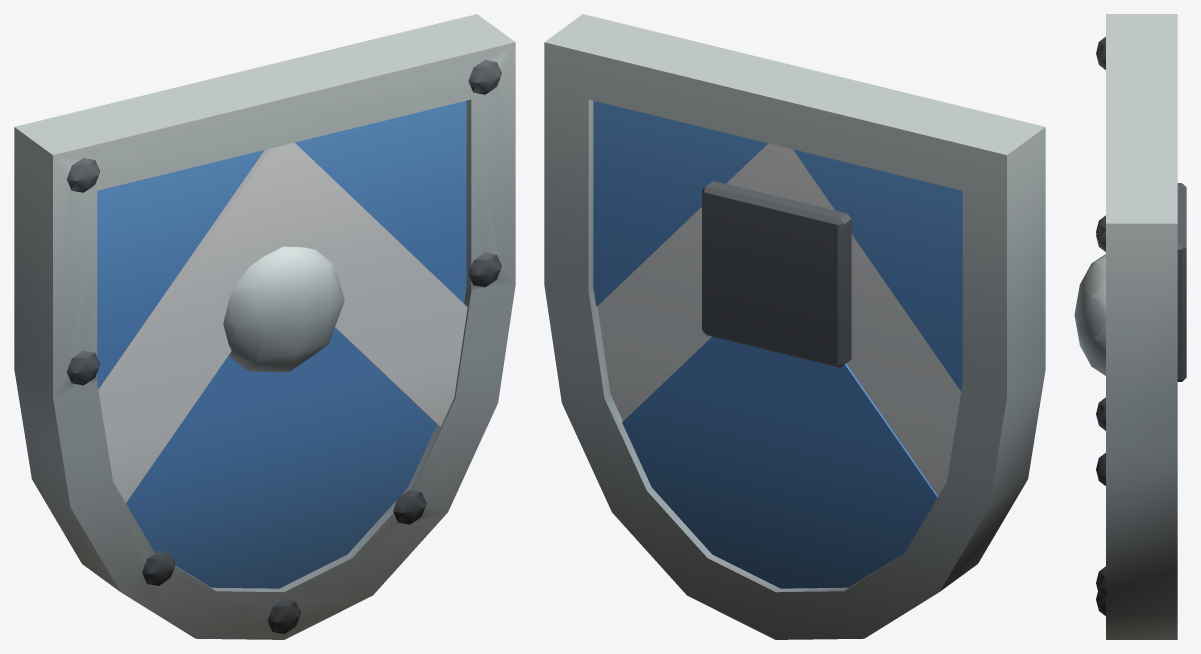
The model's file is shield_chevron.glb.
The picture shows the model from 3 angles, left to right: view 1: azimuth 30°, elevation 25°; view 2: azimuth 150°, elevation 25°; view 3: azimuth 270°, elevation 25°; orthographic projection. The views are drawn at different scales.
Visible parts, largest first — view 1: Item; view 2: Item; view 3: Item.
Part boxes in pixels (x1=…): Item: x1=14, y1=14, x2=515, y2=639; Item: x1=544, y1=14, x2=1045, y2=639; Item: x1=1074, y1=14, x2=1186, y2=639.
Size of the model in its own units: 1.11 by 1.24 by 0.25.
Materials: 3 (3 with a texture image).
